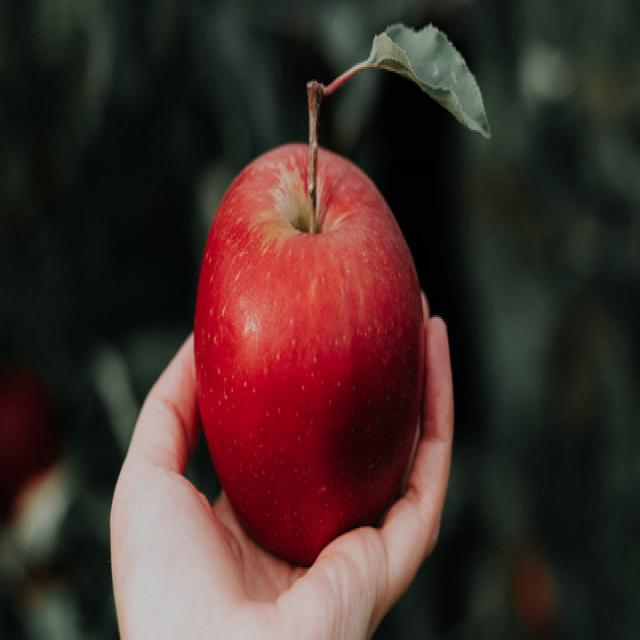Apple: (192, 70, 424, 566)
